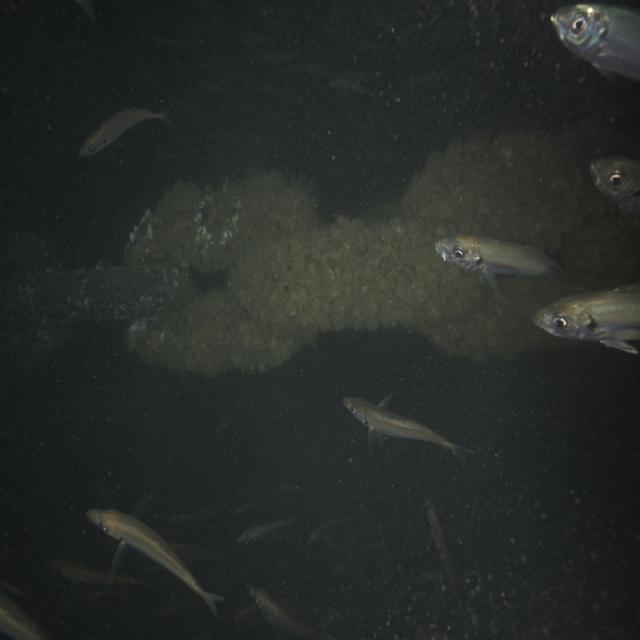ChainLink: (409, 135, 640, 289), (230, 219, 470, 331), (131, 174, 318, 265), (129, 287, 319, 375), (435, 275, 569, 359), (0, 263, 192, 321), (0, 315, 70, 365), (0, 231, 61, 281)
